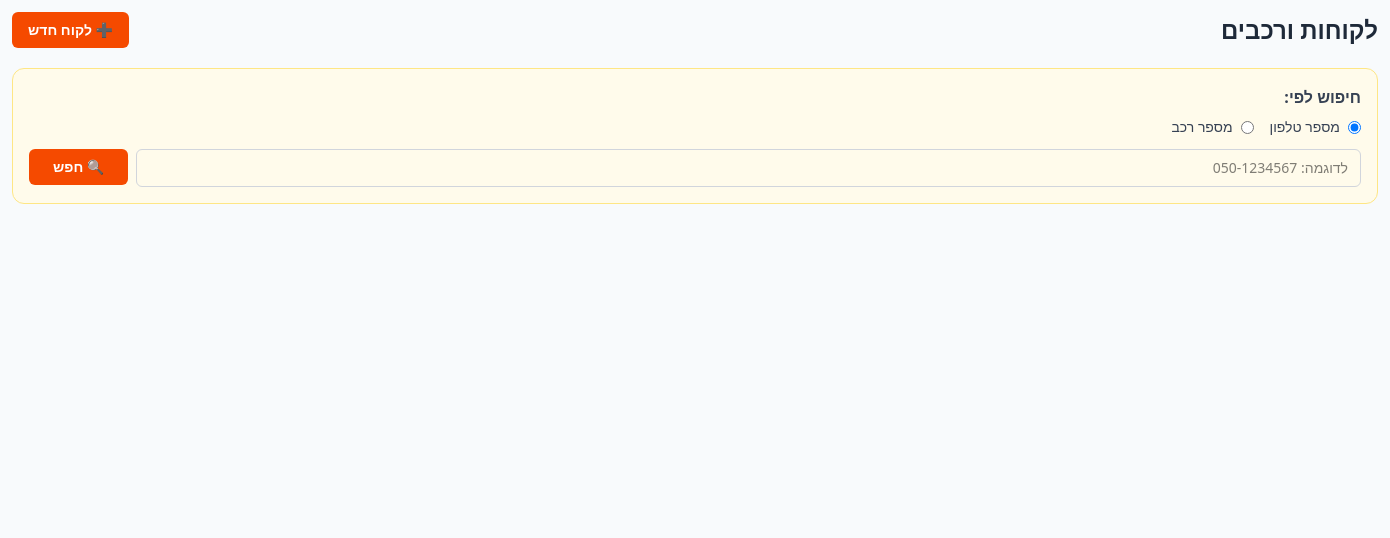
it: CustomersPage — edit vehicle › renders the edit-vehicle form prefilled from the vehicle list
Type "0501234567" into the field. click: (749, 168)
box: [136,149,1361,187]
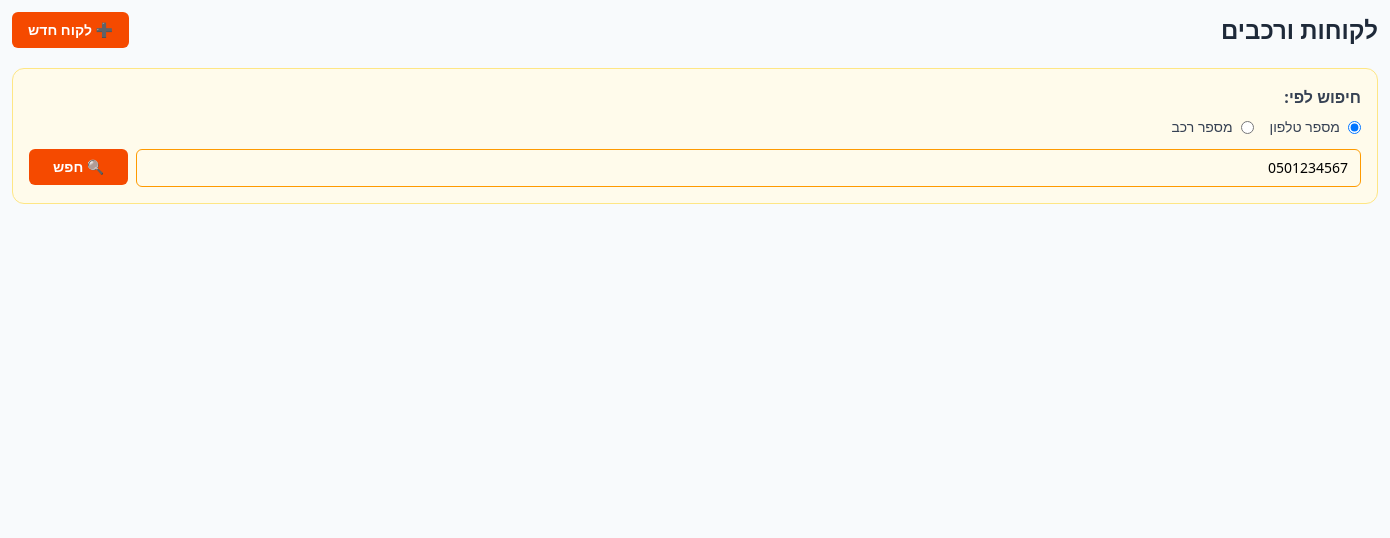
Click the button "🔍 חפש". click: (79, 167)
box: [29,149,128,185]
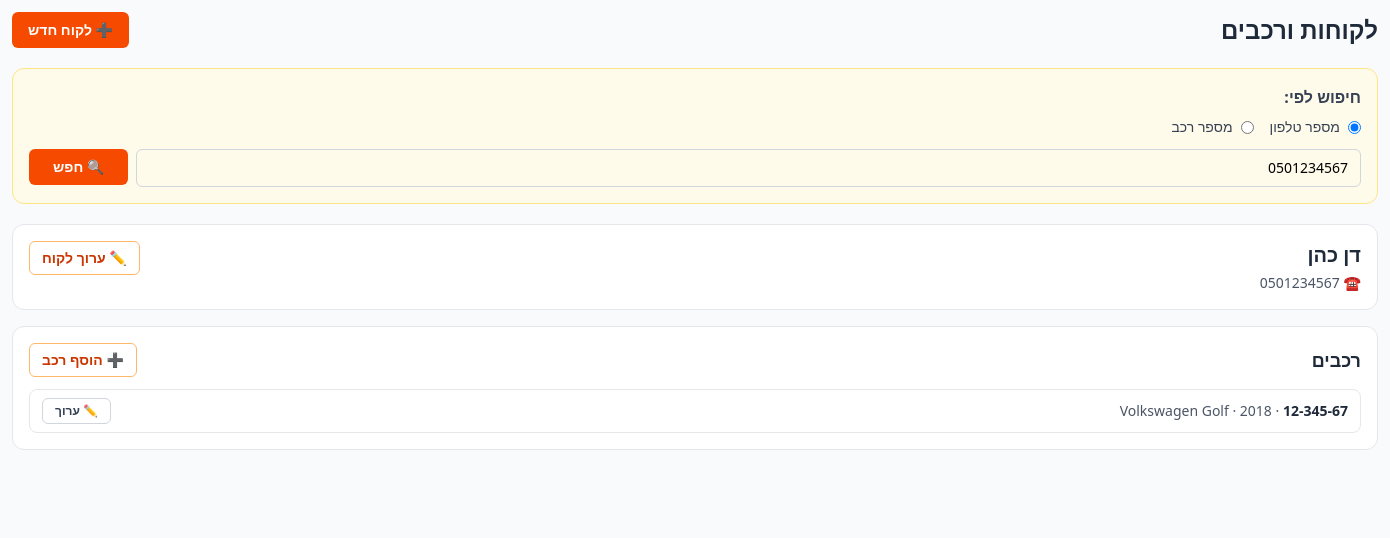
Click the button with aria-label "ערוך רכב 12-345-67". click: (76, 411)
box: [42,398,111,424]
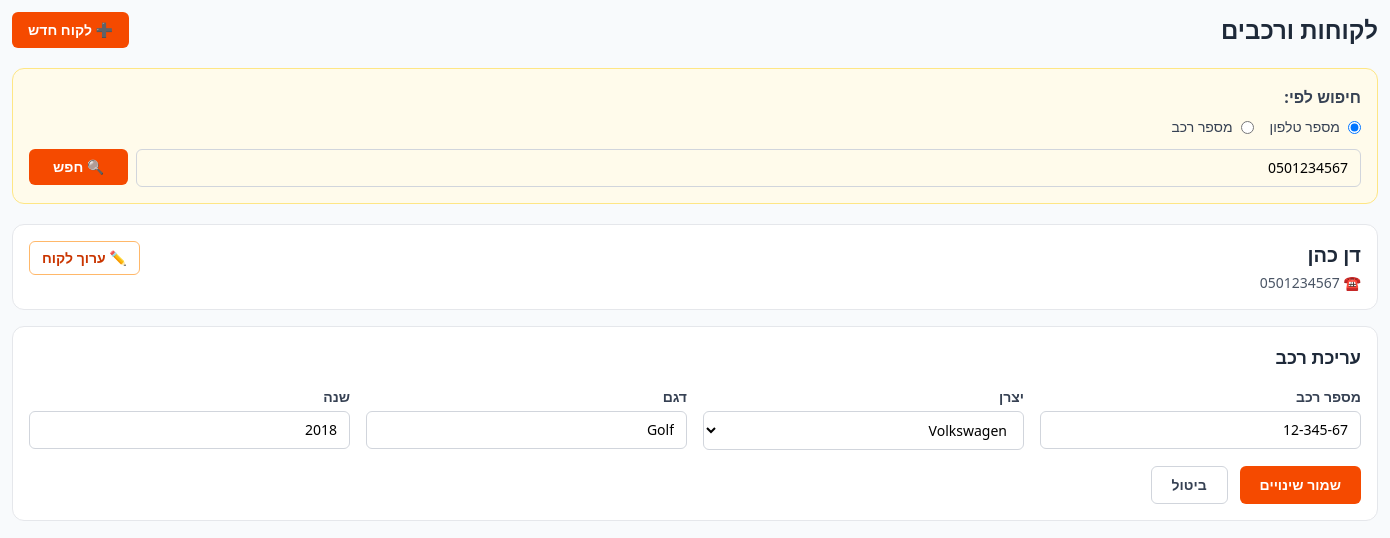
Now the field labelled "מספר רכב" holds "12-345-67", box [1040,411,1361,449]
Now the dropdown labelled "יצרן" shows "Volkswagen", box [703,411,1024,450]
Now the field labelled "דגם" holds "Golf", box [366,411,687,449]
